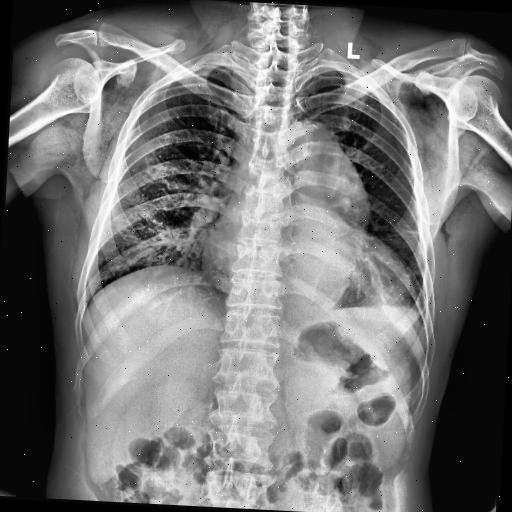0- Aortic enlargement: (278, 116, 374, 224), (279, 120, 372, 224), (278, 121, 372, 222)
13- Pulmonary fibrosis: (398, 227, 421, 237)
3- Cardiomegaly: (196, 219, 418, 309), (198, 228, 422, 314), (198, 244, 418, 304)
